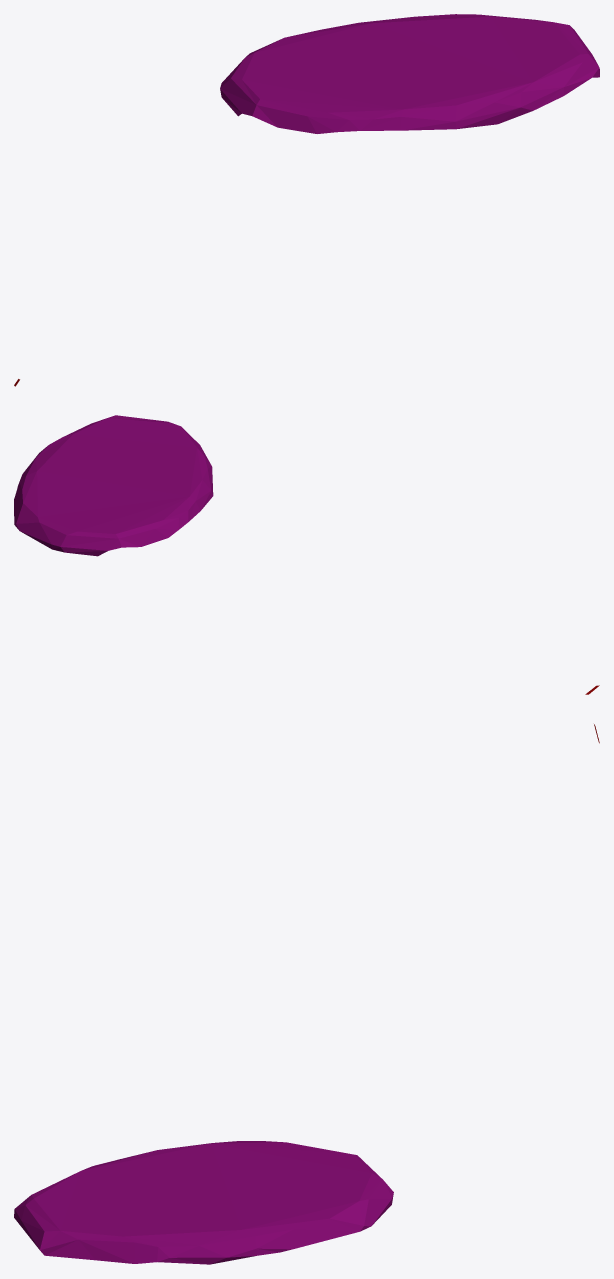
Rendered from 2secondIsland-upper.obj.
The picture shows the model from 3 angles, top to bottom: view 1: azimuth 90°, elevation 25°; view 2: azimuth 150°, elevation 25°; view 3: azimuth 270°, elevation 25°; orthographic projection. The views are drawn at different scales.
Visible parts, largest first — view 1: Merchant_island.003; view 2: Merchant_island.003; view 3: Merchant_island.003.
Boxes of the visible parts, left/top/right/bottom form: Merchant_island.003: left=220, top=14, right=599, bottom=133; Merchant_island.003: left=14, top=415, right=213, bottom=556; Merchant_island.003: left=14, top=1141, right=393, bottom=1264.
Bounding box in the file's own units: 132 × 13.54 × 72.61.
